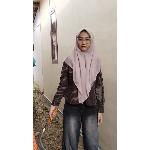Celurit: (33, 104, 65, 150)
